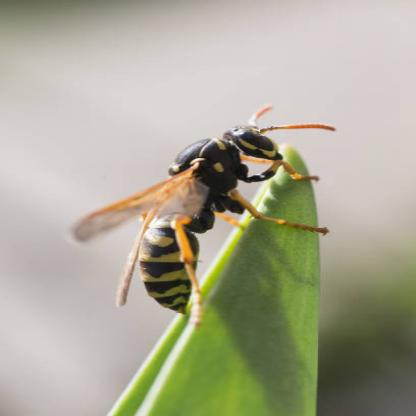sawfly: (66, 103, 340, 325)
